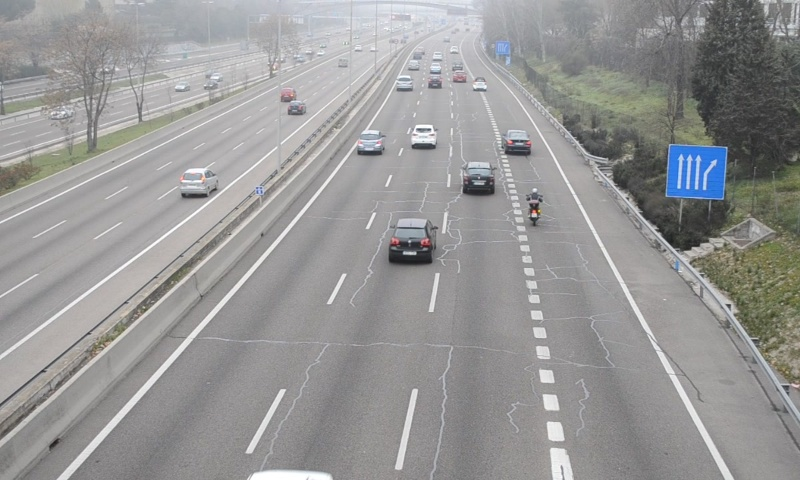car: (389, 218, 437, 262), (462, 162, 496, 194), (501, 128, 532, 155), (356, 130, 384, 154), (412, 124, 438, 148), (395, 73, 412, 90), (473, 76, 486, 92)
motorcycle: (525, 186, 544, 228)
